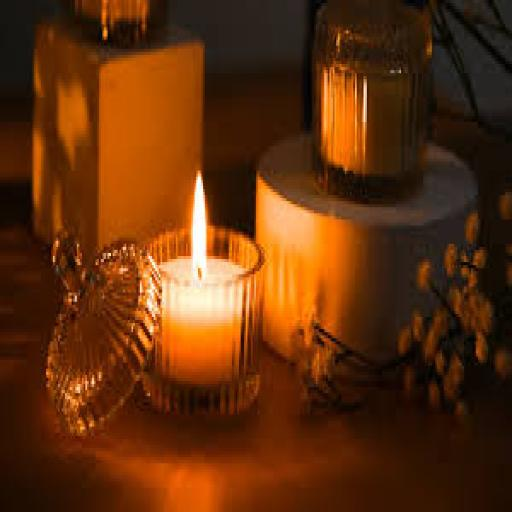fire: (184, 165, 215, 280)
